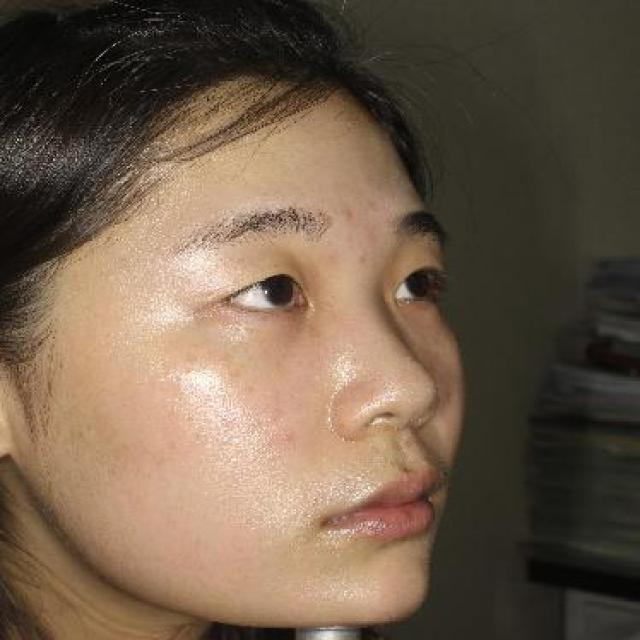dark spot: (221, 349, 241, 366), (180, 349, 200, 365), (288, 434, 304, 449), (230, 372, 247, 385)
papules: (335, 198, 363, 224), (371, 195, 387, 214), (363, 250, 376, 268)
